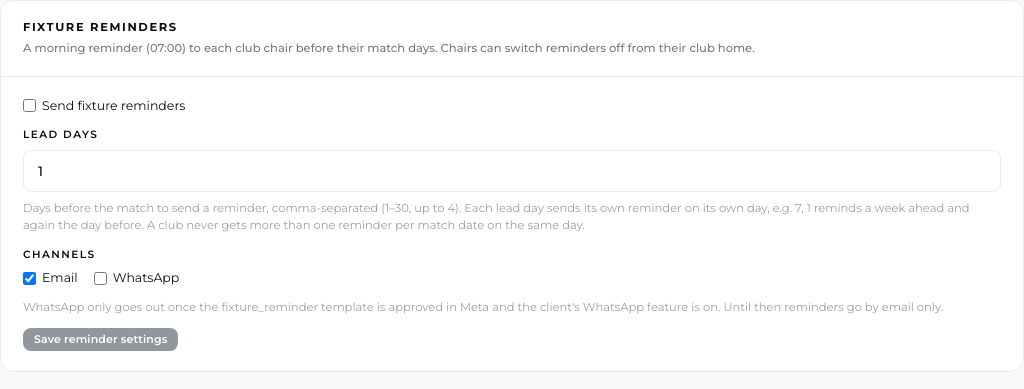
Test: FixtureRemindersCard › starts off with defaults and Save disabled until something changes
Check: the field labelled "Lead days" holds "1", box [23,150,1001,192]
Check: the checkbox labelled "Email" is checked, box [23,272,36,285]
Click the checkbox labelled "Send fixture reminders": (30,106) [23,99,36,112]
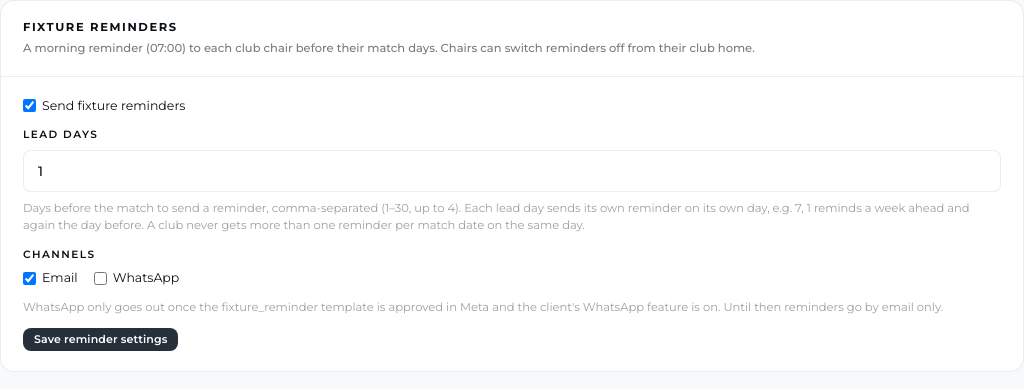
Check: the button "Save reminder settings" is enabled, box [23,328,178,351]
